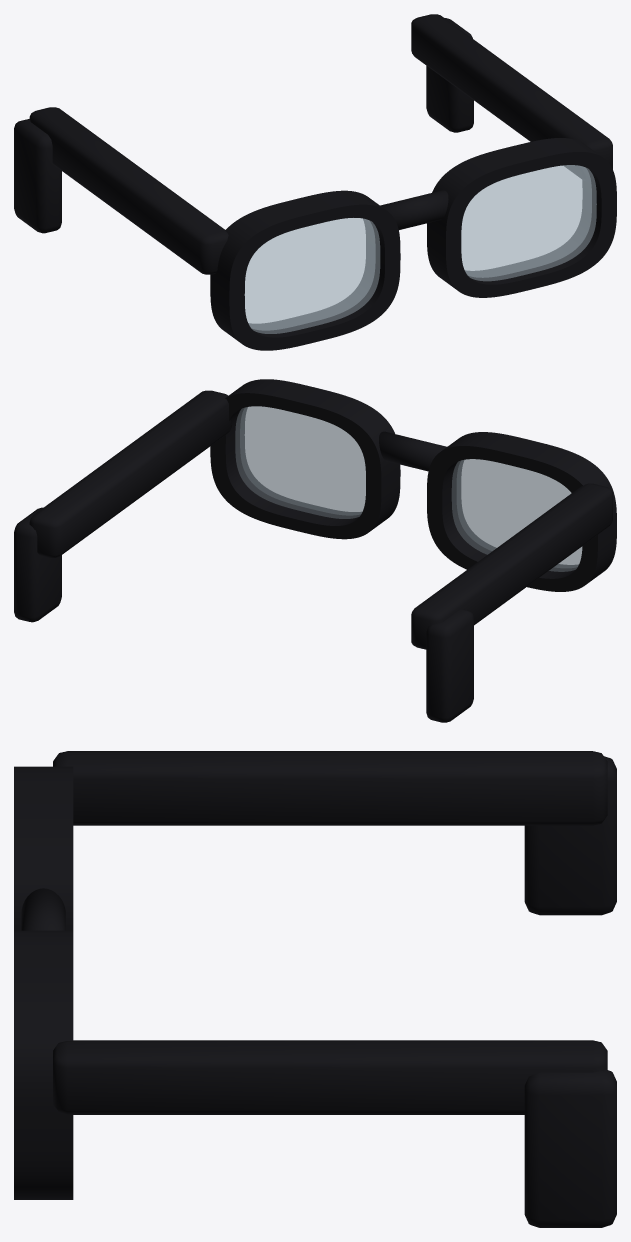
Rendered from glasses.glb.
3 views of the same model, one above another, from view 1: azimuth 30°, elevation 25°; view 2: azimuth 150°, elevation 25°; view 3: azimuth 270°, elevation 25° (orthographic). The views are drawn at different scales.
Visible parts, largest first — view 1: RectFrameL.001, RectFrameR.001, RectLensR.001, RectLensL.001, ArmL.005, ArmR.005, ArmLHook.005, ArmRHook.005, Bridge.004; view 2: RectFrameR.001, RectLensR.001, ArmR.005, RectFrameL.001, ArmL.005, RectLensL.001, ArmLHook.005, ArmRHook.005, Bridge.004; view 3: ArmL.005, ArmR.005, RectFrameR.001, ArmRHook.005, ArmLHook.005, RectFrameL.001, Bridge.004.
Boxes of the visible parts, x1,y1,x2,y2 form: RectFrameL.001: (210, 190, 400, 350); RectFrameR.001: (427, 138, 616, 297); RectLensR.001: (461, 165, 596, 281); RectLensL.001: (244, 218, 380, 333); ArmL.005: (29, 107, 228, 274); ArmR.005: (411, 14, 612, 180); ArmLHook.005: (14, 119, 61, 233); ArmRHook.005: (426, 18, 473, 132); Bridge.004: (380, 190, 448, 229); RectFrameR.001: (210, 379, 400, 539); RectLensR.001: (235, 406, 365, 518); ArmR.005: (29, 390, 231, 557); RectFrameL.001: (427, 432, 616, 591); ArmL.005: (411, 483, 612, 649); RectLensL.001: (451, 459, 582, 571); ArmLHook.005: (426, 609, 473, 722); ArmRHook.005: (14, 507, 61, 622); Bridge.004: (379, 431, 446, 471); ArmL.005: (53, 751, 607, 825); ArmR.005: (53, 1040, 607, 1114); RectFrameR.001: (14, 930, 73, 1199); ArmRHook.005: (524, 1069, 616, 1227); ArmLHook.005: (524, 756, 616, 915); RectFrameL.001: (14, 766, 73, 930); Bridge.004: (21, 888, 65, 930).
Bounding box in the file's own units: 0.424 × 0.12 × 0.326.
